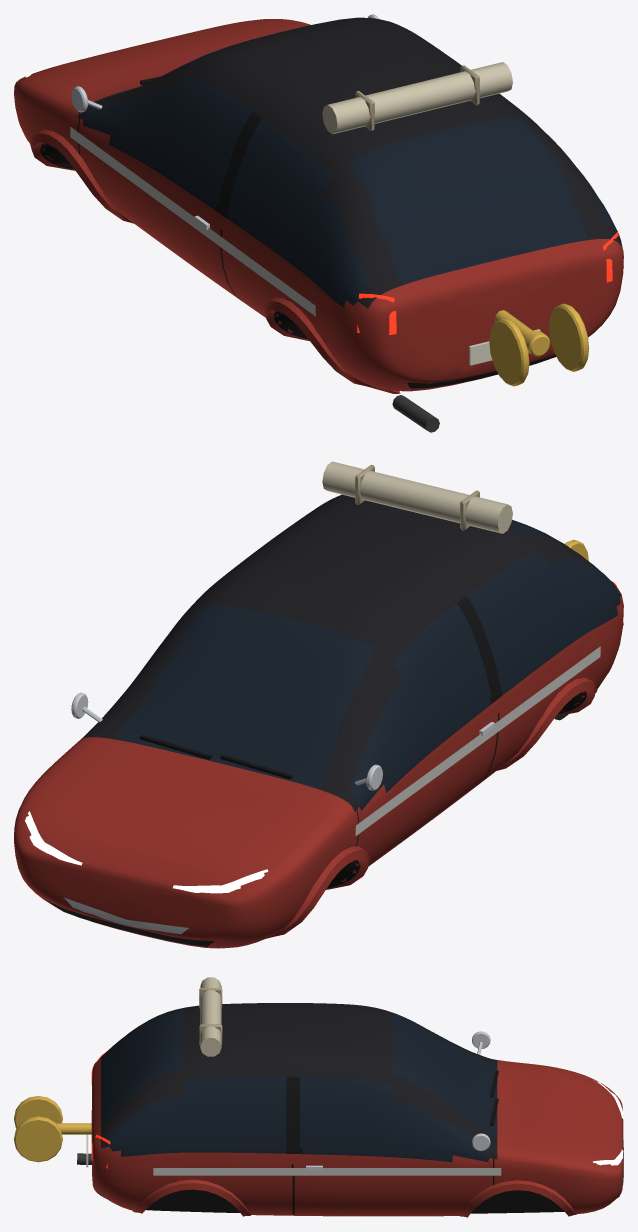
Rendered from car_tincan.glb.
The picture shows the model from 3 angles, top to bottom: view 1: azimuth 30°, elevation 25°; view 2: azimuth 150°, elevation 25°; view 3: azimuth 270°, elevation 25°; orthographic projection. The views are drawn at different scales.
Visible parts, largest first — view 1: body, parts, lips; view 2: body, parts, lips, strip1, strip4, strip0.001; view 3: body, parts, lips.
Boxes of the visible parts, x1,y1,x2,y2 form: body: [14, 17, 623, 391]; parts: [70, 14, 589, 432]; lips: [29, 129, 400, 393]; body: [14, 494, 623, 948]; parts: [71, 461, 600, 835]; lips: [266, 677, 596, 938]; strip1: [64, 897, 188, 934]; strip4: [46, 900, 213, 946]; strip0.001: [173, 869, 268, 893]; body: [91, 1003, 623, 1216]; parts: [14, 977, 501, 1175]; lips: [132, 1179, 576, 1217].
Size of the model in its own units: 1.71 by 1.43 by 4.24.
